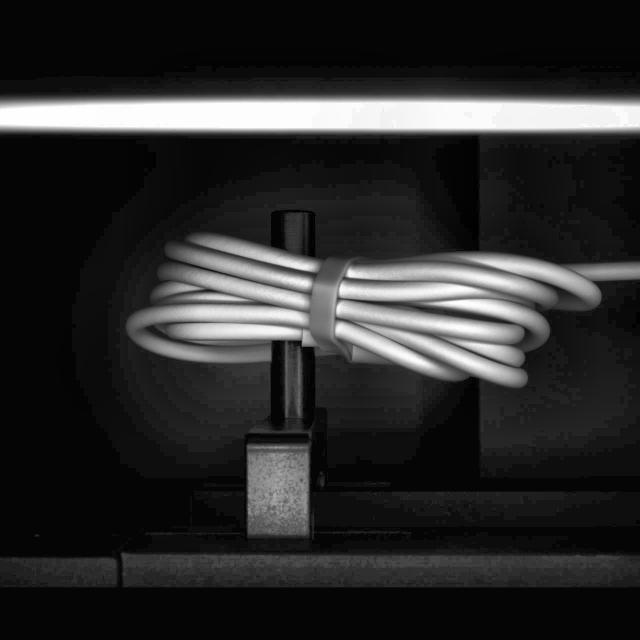Cable: (119, 225, 640, 393)
